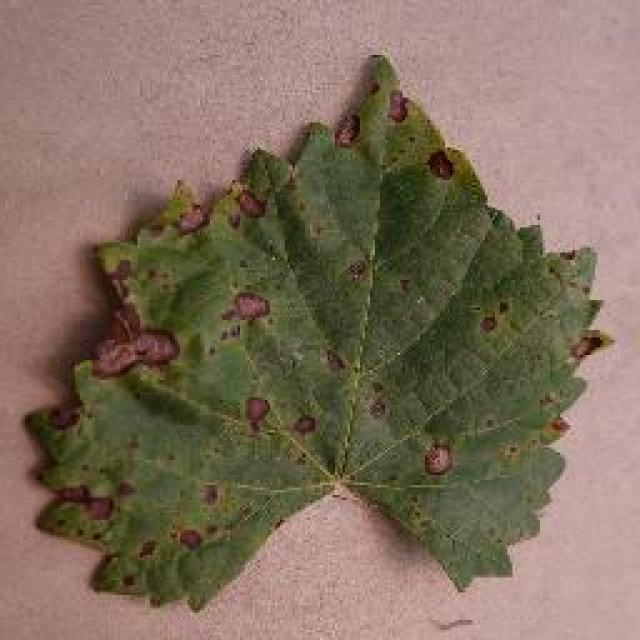Grape___Black_rot: (15, 53, 624, 620)
